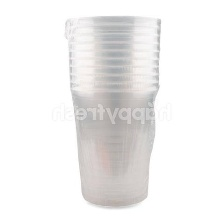glass: (60, 13, 167, 211)
